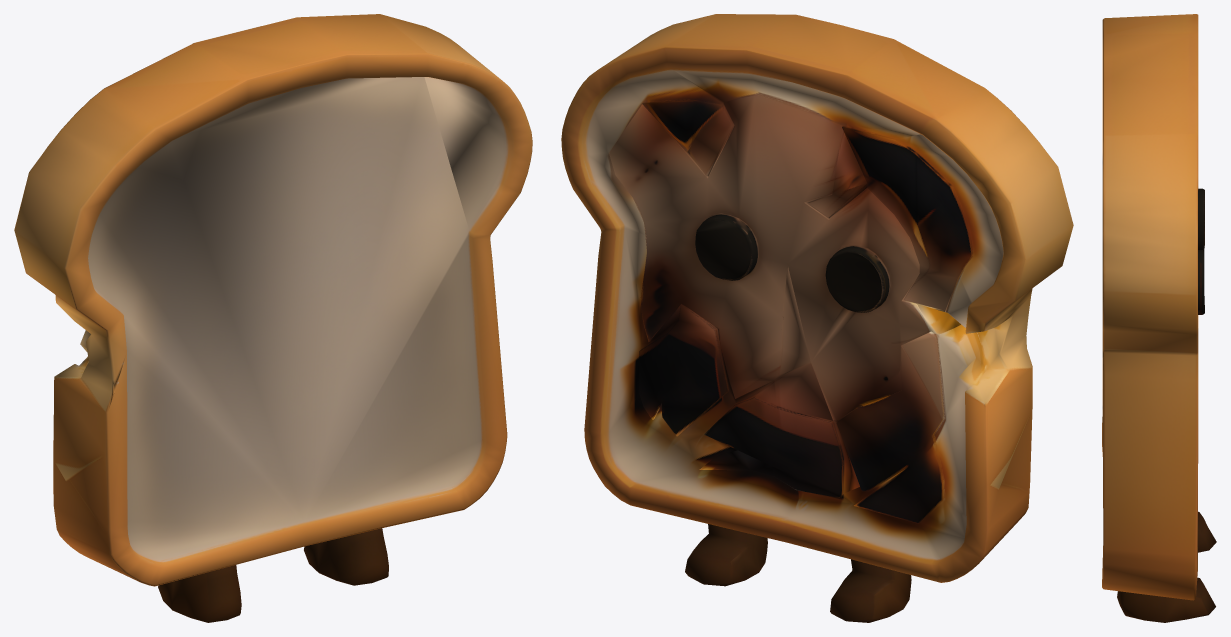
The model's file is burnt_toast.glb.
The picture shows the model from 3 angles, left to right: view 1: azimuth 30°, elevation 25°; view 2: azimuth 150°, elevation 25°; view 3: azimuth 270°, elevation 25°; orthographic projection. The views are drawn at different scales.
Visible parts, largest first — view 1: material; view 2: material; view 3: material.
Boxes of the visible parts, x1,y1,x2,y2 form: material: [14, 14, 532, 622]; material: [561, 14, 1073, 622]; material: [1102, 14, 1216, 622].
Bounding box in the file's own units: 1.71 × 1.9 × 0.3838.
1 material, 1 textured.
